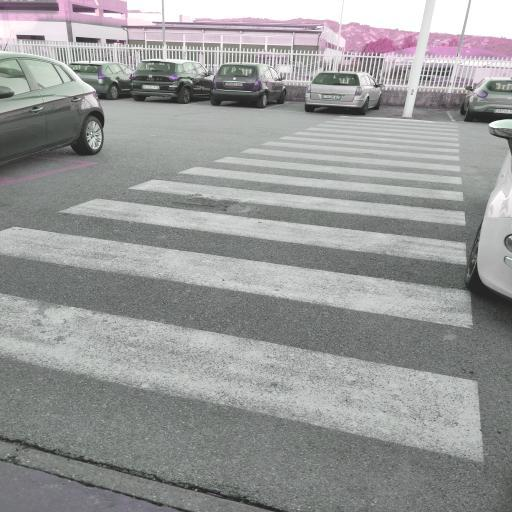crosswalk: (120, 164, 468, 230)
